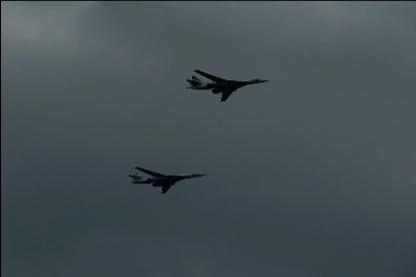Su34: (184, 69, 270, 100), (126, 166, 206, 192)
